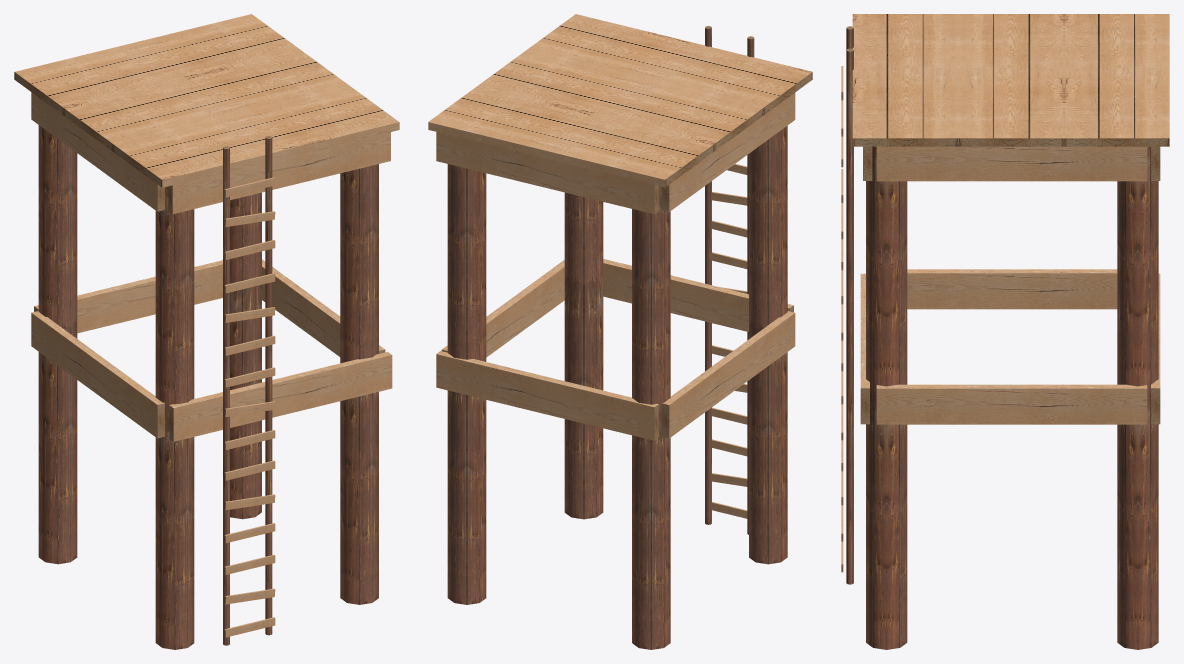
The model's file is WoodPlatform.FBX.
The picture shows the model from 3 angles, left to right: view 1: azimuth 30°, elevation 25°; view 2: azimuth 150°, elevation 25°; view 3: azimuth 270°, elevation 25°; orthographic projection. The views are drawn at different scales.
Parts seen in each view (by area): view 1: Box009, Cylinder004, Cylinder001, Cylinder003, Cylinder007, Box003, Cylinder008, Cylinder006, Box006, Box002, Cylinder002, Box004 (+5 smaller); view 2: Box009, Box004, Cylinder002, Cylinder003, Cylinder001, Cylinder004, Cylinder005, Cylinder006, Cylinder007, Box005, Box002, Box003 (+5 smaller); view 3: Box009, Box001, Box008, Cylinder001, Cylinder002, Cylinder008, Cylinder005, Box002, Cylinder010, Box003, Box004.
Part boxes in pixels (x1,y1,x2,y2): Box009: (14, 14, 399, 187); Cylinder004: (155, 413, 194, 649); Cylinder001: (340, 362, 378, 604); Cylinder003: (38, 322, 77, 564); Cylinder007: (155, 186, 194, 414); Box003: (169, 352, 392, 441); Cylinder008: (340, 164, 378, 362); Cylinder006: (38, 125, 77, 327); Box006: (168, 132, 390, 214); Box002: (31, 311, 164, 438); Cylinder002: (230, 281, 261, 519); Box004: (34, 260, 222, 333); Box009: (428, 14, 812, 187); Box004: (436, 351, 658, 440); Cylinder002: (447, 390, 486, 604); Cylinder003: (632, 413, 670, 649); Cylinder001: (564, 277, 603, 519); Cylinder004: (749, 322, 787, 564); Cylinder005: (447, 164, 486, 361); Cylinder006: (632, 186, 670, 413); Cylinder007: (749, 125, 787, 329); Box005: (436, 132, 658, 214); Box002: (661, 311, 795, 438); Box003: (603, 259, 793, 331); Box009: (852, 14, 1169, 146); Box001: (876, 384, 1147, 424); Box008: (876, 146, 1147, 181); Cylinder001: (866, 393, 907, 649); Cylinder002: (1117, 395, 1158, 649); Cylinder008: (866, 146, 907, 396); Cylinder005: (1117, 146, 1158, 395); Box002: (907, 269, 1117, 309); Cylinder010: (846, 48, 853, 584); Box003: (860, 273, 869, 424); Box004: (1151, 273, 1160, 424).
Size of the model in its own units: 65.21 by 72.89 by 131.
1 material, 1 textured.
